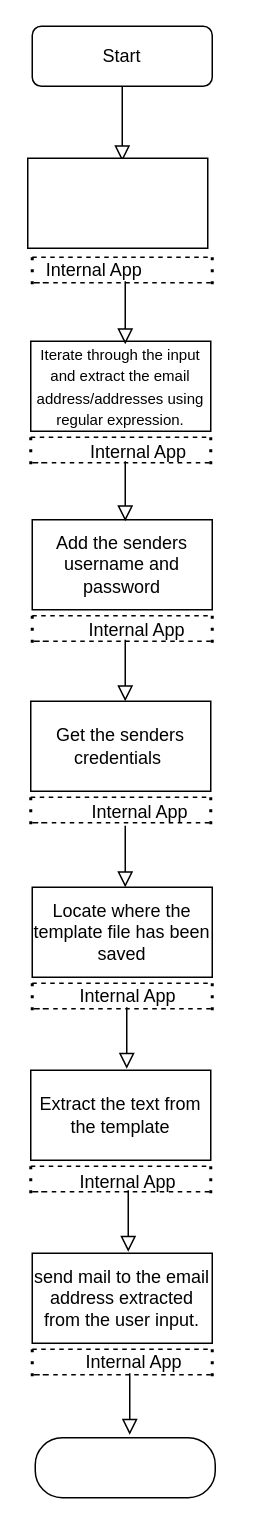
The diagram is 258 pixels wide and 1524 high, and some of its shapes have lost their labels. Each missing label, with the box of its shape:
Display input dialog box that prompts the user to input sentence: (26, 157, 208, 248)
End: (34, 1436, 215, 1498)
